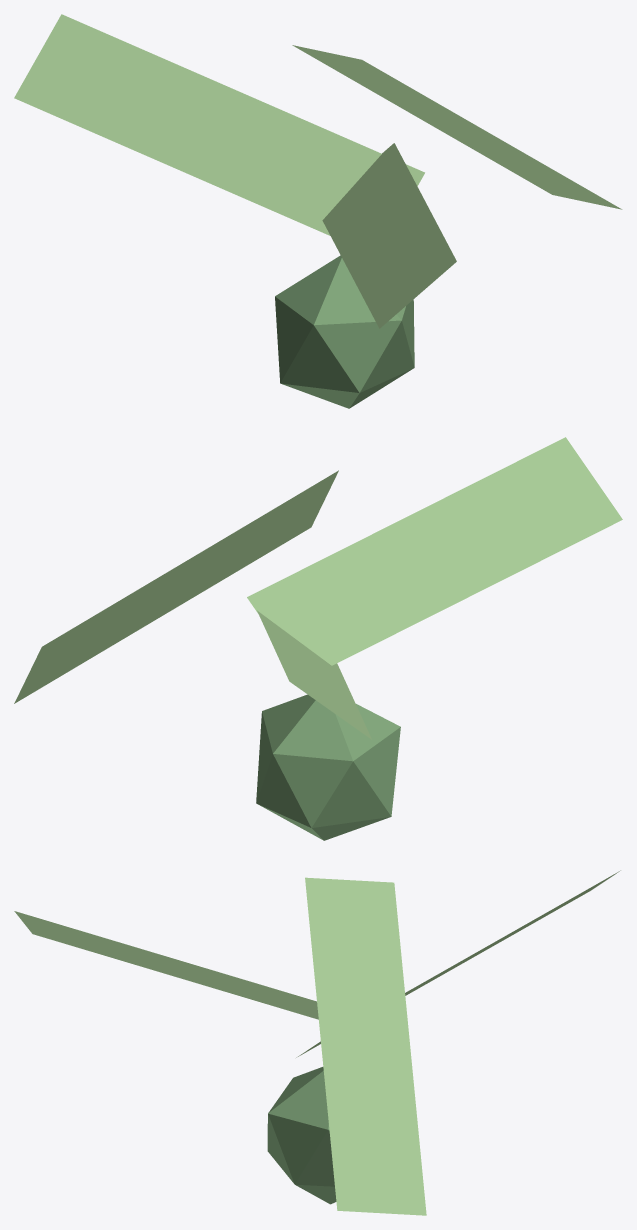
The model's file is fern.glb.
3 views of the same model, one above another, from view 1: azimuth 30°, elevation 25°; view 2: azimuth 150°, elevation 25°; view 3: azimuth 270°, elevation 25° (orthographic). The views are drawn at different scales.
Parts seen in each view (by area): view 1: Fern; view 2: Fern; view 3: Fern.
Boxes of the visible parts, x1,y1,x2,y2 form: Fern: [14, 14, 622, 408]; Fern: [14, 437, 622, 840]; Fern: [14, 870, 620, 1215].
Bounding box in the file's own units: 0.5259 × 0.3851 × 0.6513.
